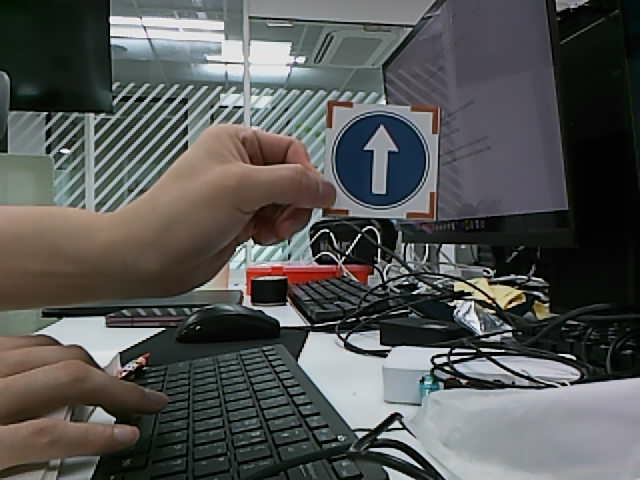go: (332, 110, 430, 210)
